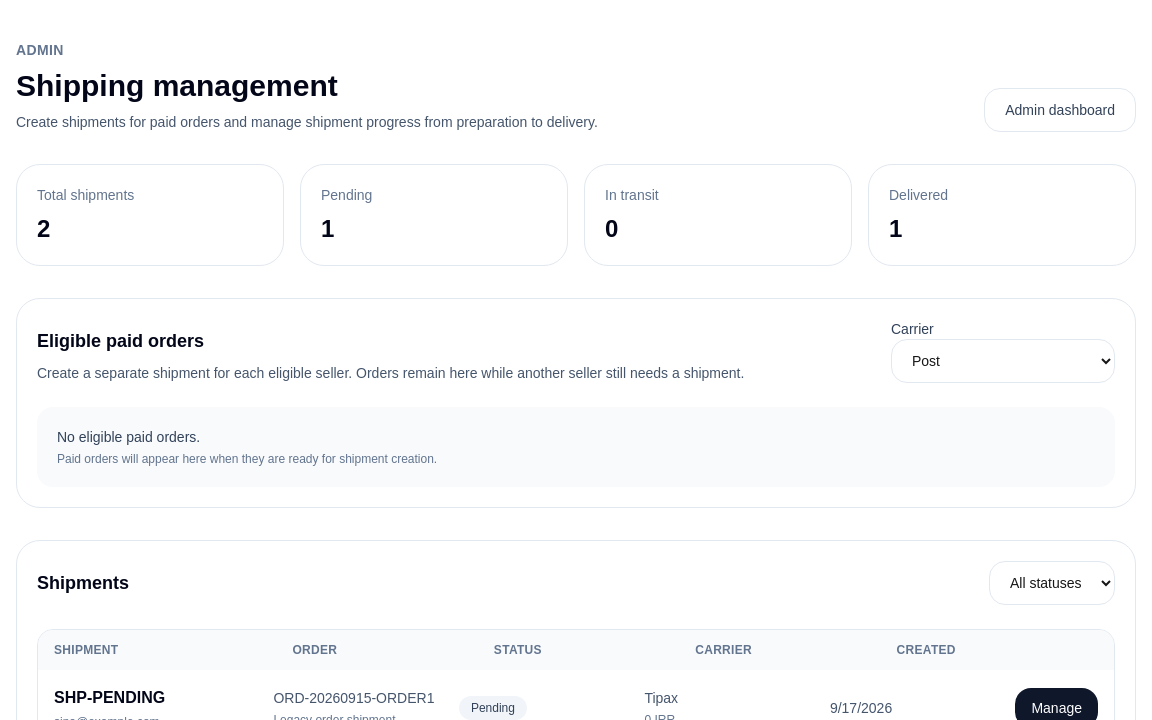
Test: AdminShipmentsList › filters the shipment list by status
Expected: the link "SHP-PENDING" is shown, left=54, top=689, right=165, bottom=706
Select "Delivered" in the 2nd dropdown at (1052, 583), box left=989, top=561, right=1115, bottom=605
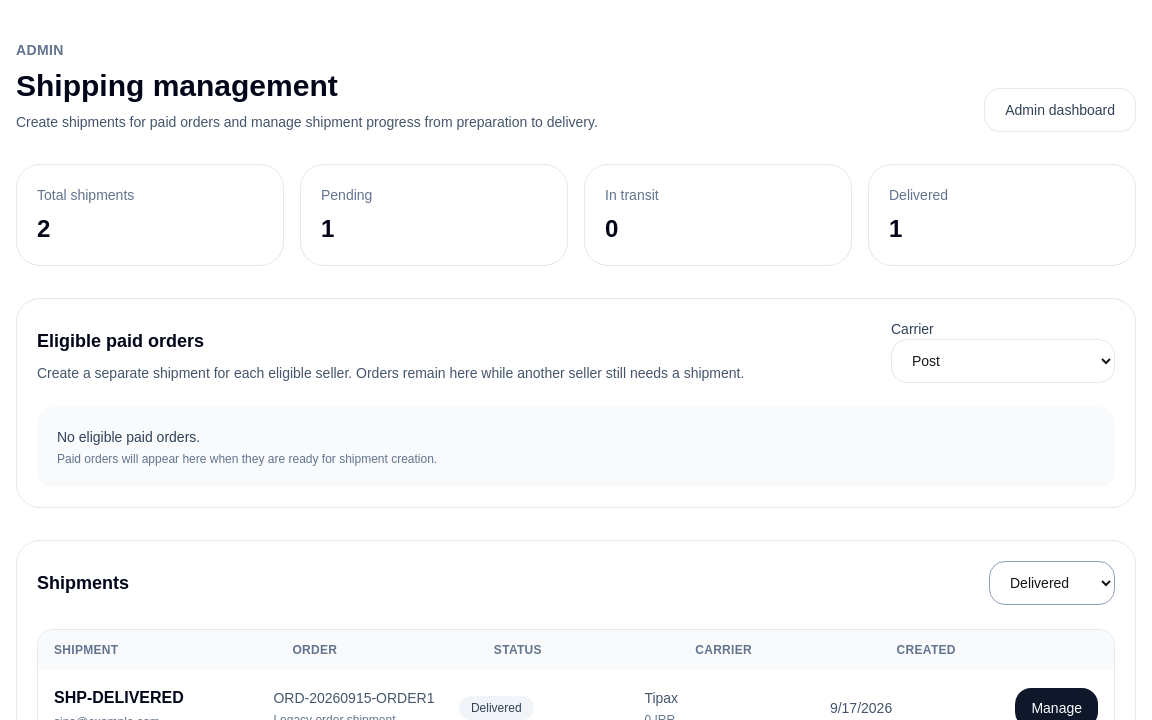
Expected: the link "SHP-DELIVERED" is shown, left=54, top=689, right=184, bottom=706
Now the link "SHP-PENDING" is gone
